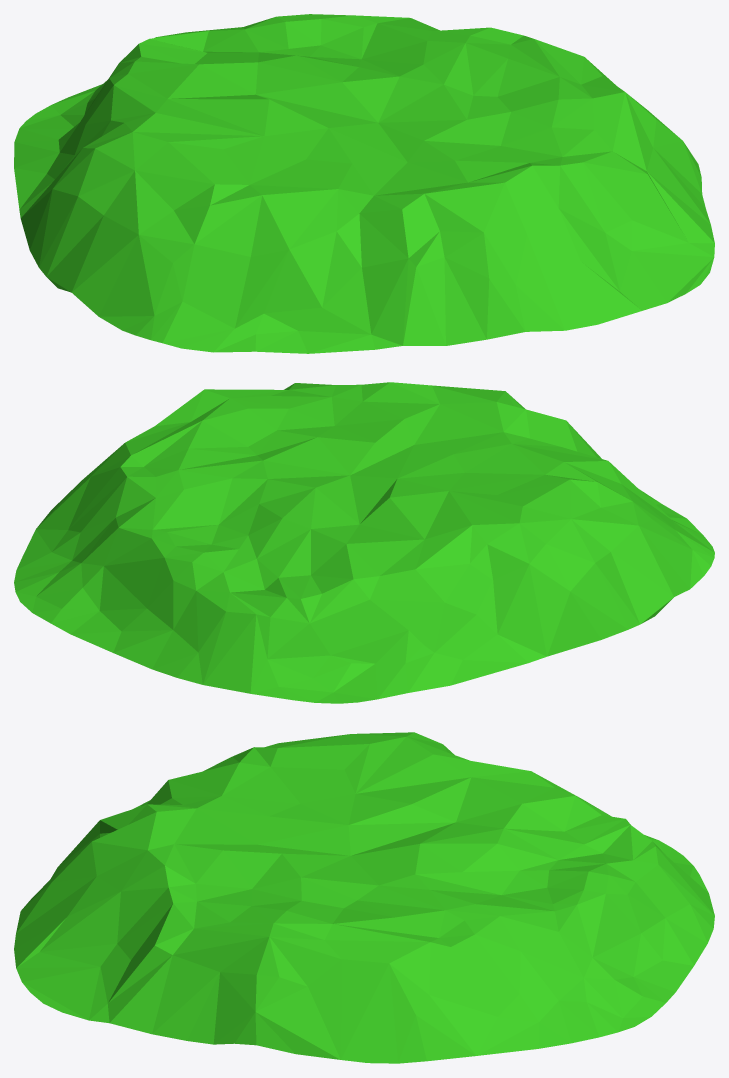
The model's file is terrain8.fbx.
3 renders of one model, top to bottom at view 1: azimuth 30°, elevation 25°; view 2: azimuth 150°, elevation 25°; view 3: azimuth 270°, elevation 25°, orthographic. The views are drawn at different scales.
Visible parts, largest first — view 1: Plane.001; view 2: Plane.001; view 3: Plane.001.
Boxes of the visible parts, <box> form: Plane.001: <box>14,14,714,353</box>; Plane.001: <box>14,382,714,703</box>; Plane.001: <box>14,732,714,1063</box>.
Size of the model in its own units: 2134 by 338 by 2226.
